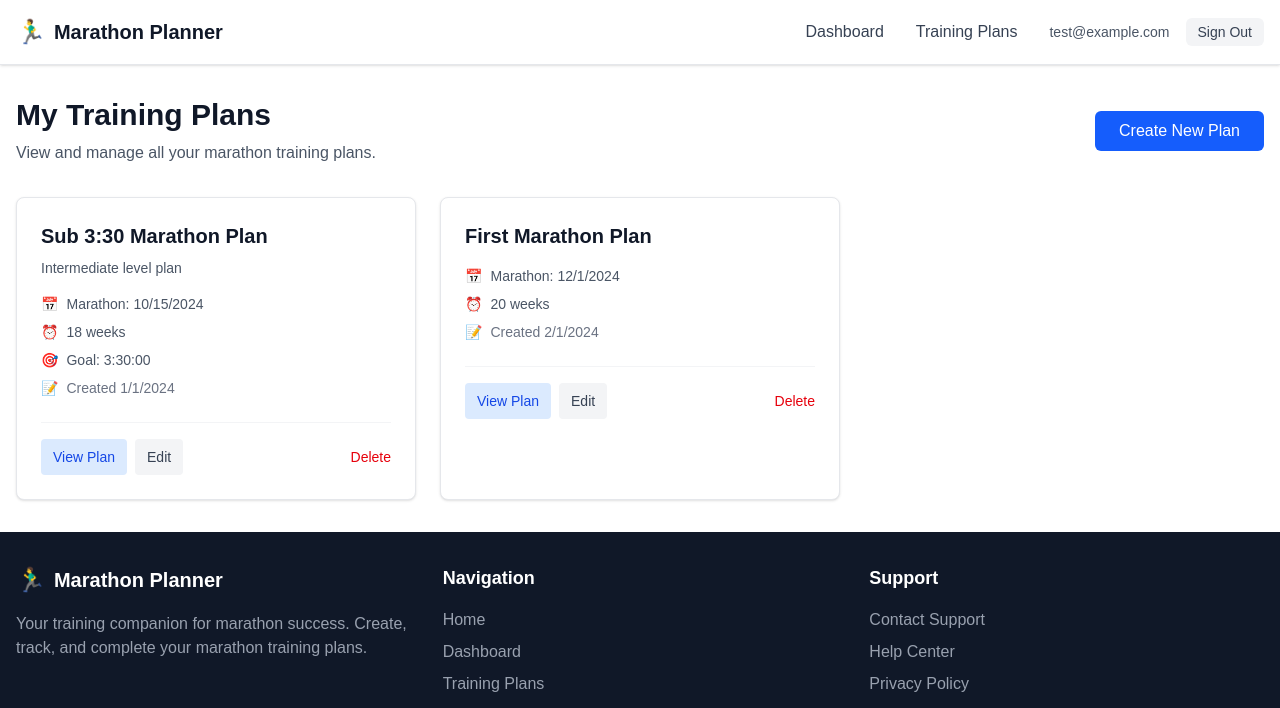
Test case: PlansPage › shows deleting state when delete is in progress
The image size is (1280, 708).
Expected: the heading "Sub 3:30 Marathon Plan" is shown, [41,225,268,247]
Click the button "Delete" below "1/1/2024".
click(371, 457)  # box [350,447,391,467]
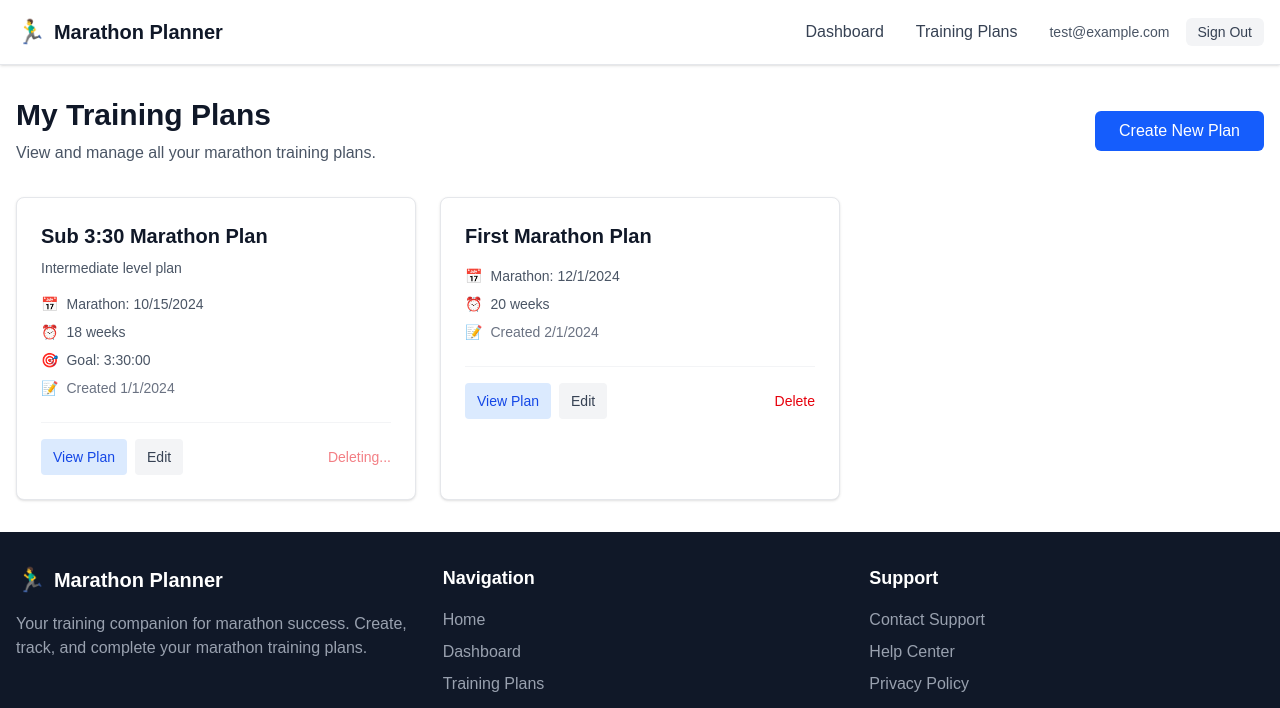
Expected: the button "Deleting..." is shown, [328,447,391,467]
